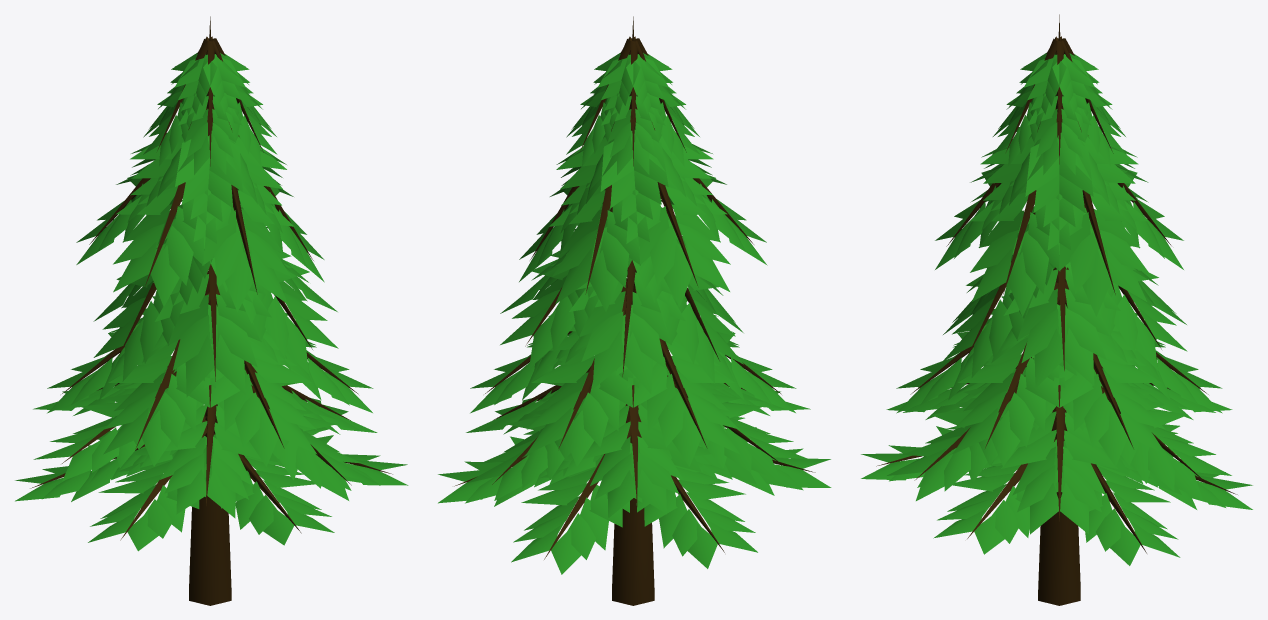
File: Tree_.FBX
3 renders of one model, left to right at view 1: azimuth 30°, elevation 25°; view 2: azimuth 150°, elevation 25°; view 3: azimuth 270°, elevation 25°, orthographic.
Parts seen in each view (by area): view 1: Cone001; view 2: Cone001; view 3: Cone001.
Boxes of the visible parts, bbox=[...] form: Cone001: bbox=[15, 16, 408, 605]; Cone001: bbox=[438, 16, 831, 605]; Cone001: bbox=[861, 14, 1252, 605].
Size of the model in its own units: 96.72 by 166 by 102.
